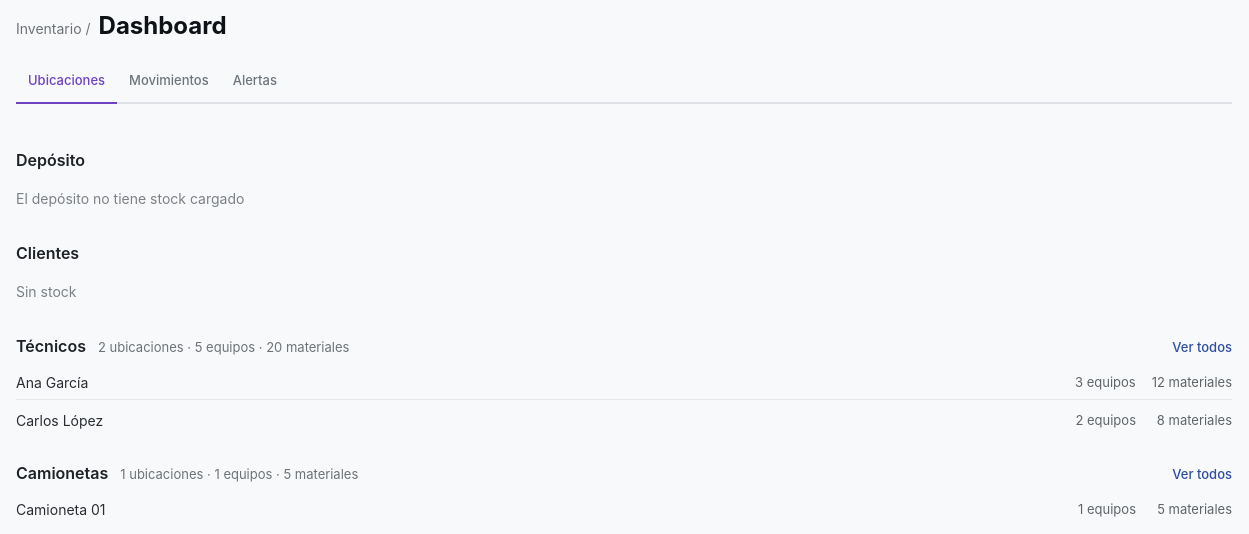
Test case: FIX 2 — regression: Movimientos tab still works › can switch to Movimientos tab after dashboard changes
This screenshot has width=1249, height=534.
Click the tab "Movimientos" at (169, 82), box [117,60,221,104]
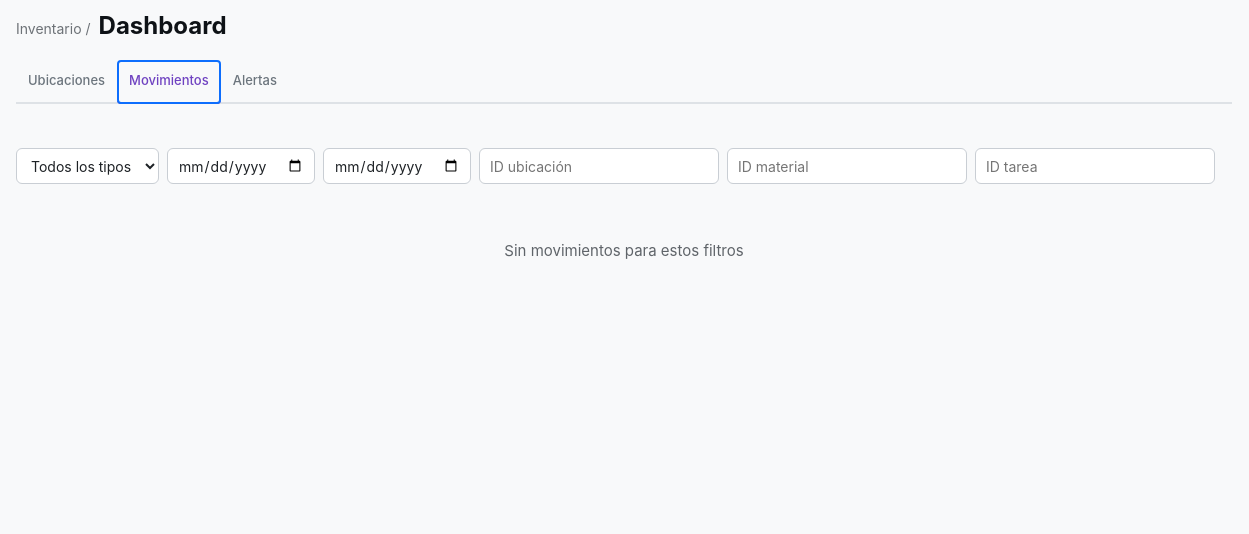
Expected: the text "Sin movimientos para estos filtros" is shown, [504,241,744,260]
